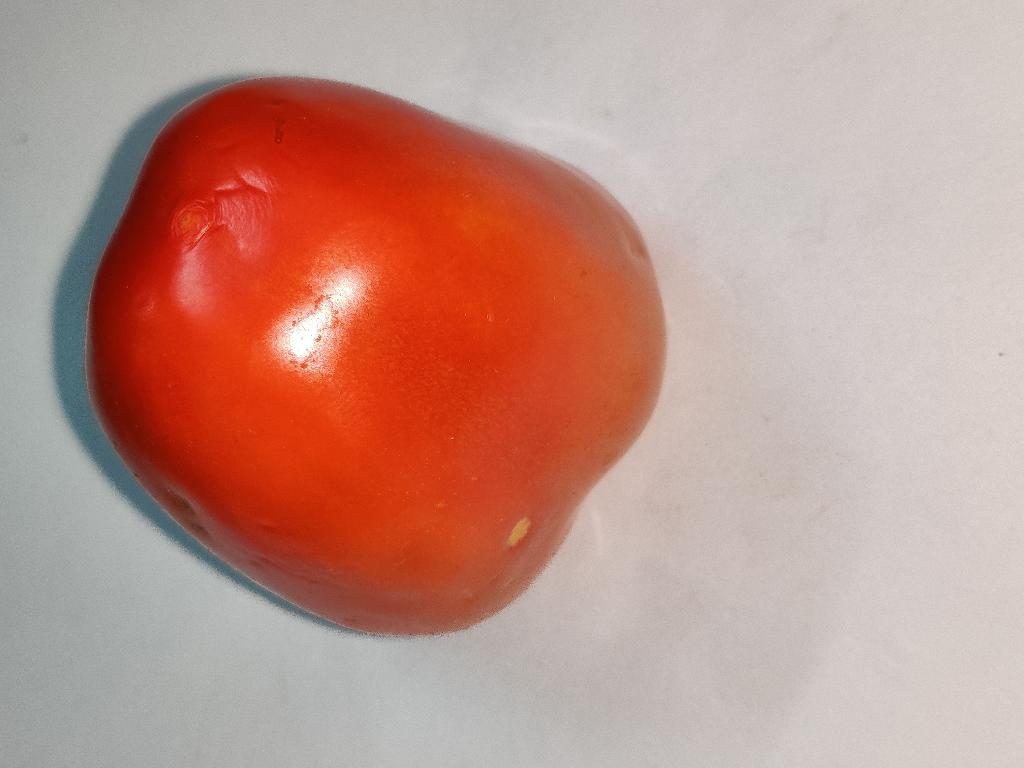surface_damage: (179, 183, 271, 255), (509, 518, 529, 546)
tomato: (85, 78, 665, 635)
